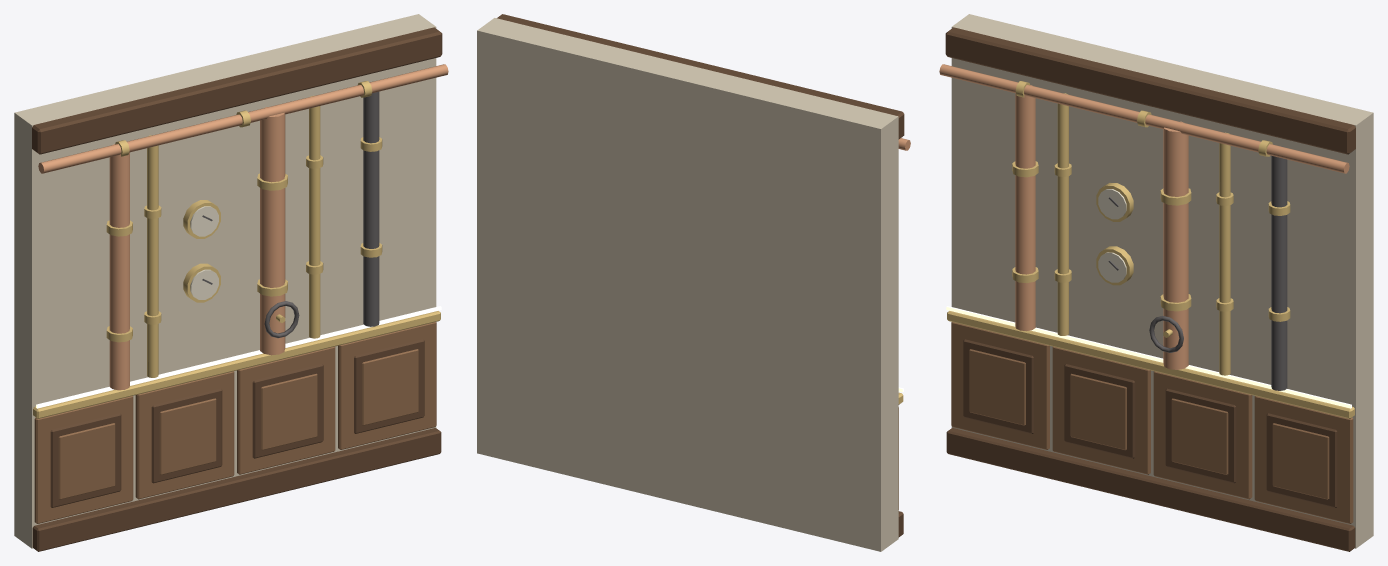
The model's file is wall_hm_pipes.glb.
3 views of the same model, side by side, from view 1: azimuth 30°, elevation 25°; view 2: azimuth 150°, elevation 25°; view 3: azimuth 330°, elevation 25° (orthographic).
Parts seen in each view (by area): view 1: wall_hm_pipes; view 2: wall_hm_pipes; view 3: wall_hm_pipes.
Part boxes in pixels (x1,y1,x2,y2): wall_hm_pipes: (14,14,448,551); wall_hm_pipes: (477,14,910,551); wall_hm_pipes: (939,14,1373,551).
Size of the model in its own units: 4 by 4 by 0.6209.
